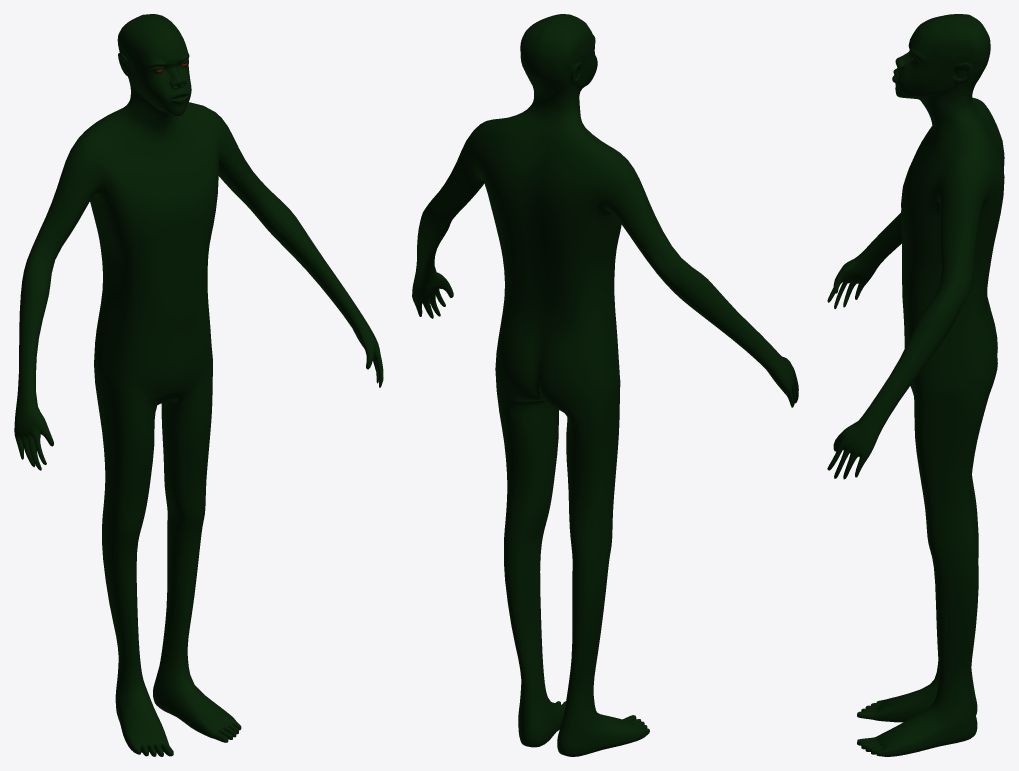
The model's file is SSP001.obj.
The picture shows the model from 3 angles, left to right: view 1: azimuth 30°, elevation 25°; view 2: azimuth 150°, elevation 25°; view 3: azimuth 270°, elevation 25°; orthographic projection. The views are drawn at different scales.
Visible parts, largest first — view 1: Bodyx_Cube_Cube.001; view 2: Bodyx_Cube_Cube.001; view 3: Bodyx_Cube_Cube.001.
Boxes of the visible parts, <box> form: Bodyx_Cube_Cube.001: <box>14,14,383,756</box>; Bodyx_Cube_Cube.001: <box>412,14,798,756</box>; Bodyx_Cube_Cube.001: <box>827,14,1004,756</box>.
Bounding box in the file's own units: 22.27 × 41.23 × 9.24.
